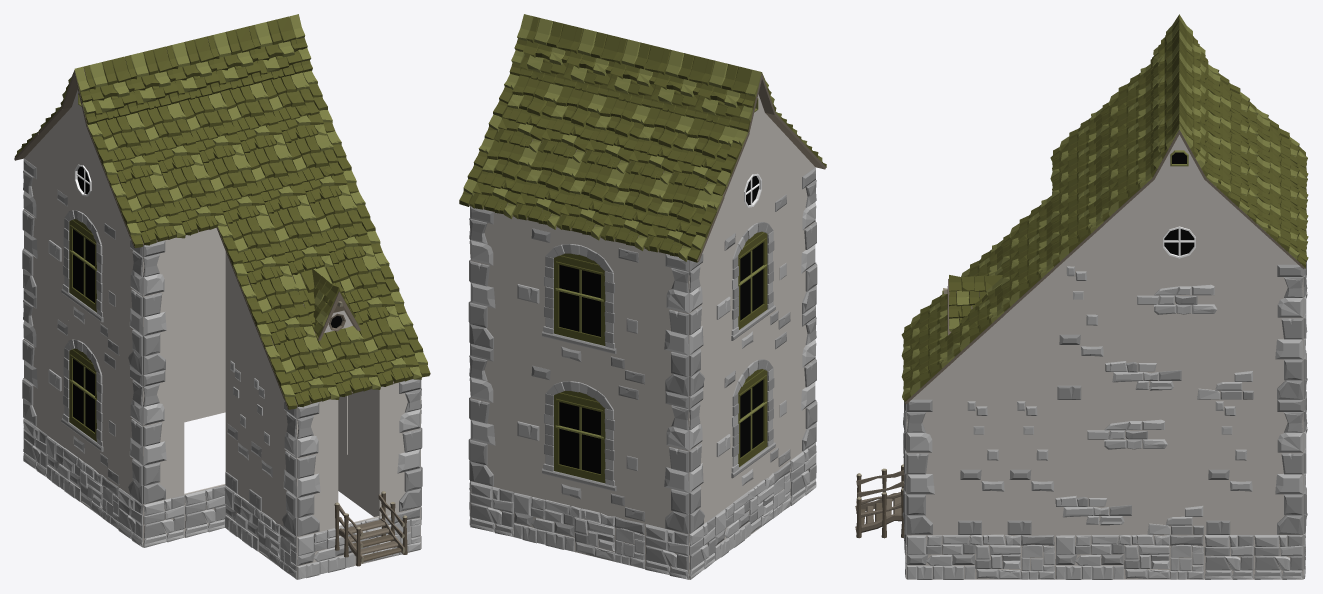
File: HOUSE_7_PARTS.fbx
3 renders of one model, left to right at view 1: azimuth 30°, elevation 25°; view 2: azimuth 150°, elevation 25°; view 3: azimuth 270°, elevation 25°, orthographic. The views are drawn at different scales.
Parts seen in each view (by area): view 1: WINDOW_05_12, WINDOW_05_13, WALL_05_2, WALL_07_3, WALL_05_3, WALL_05_4, WALL_05_9, FOUNDATION_03_2, WALL_05_7, WALL_05_6, WALL_06_4, WALL_07_4 (+61 smaller); view 2: WINDOW_05_11, WINDOW_05_10, WINDOW_05_12, WINDOW_05_13, WALL_05_9, WALL_07_8, WALL_05_8, WALL_07_9, FOUNDATION_03_5, WALL_07_6, WALL_07_4, WALL_05_6 (+33 smaller); view 3: WALL_03_2, WALL_03_3, WALL_06_5, WALL_05_5, FOUNDATION_03_6, FOUNDATION_03_7, WALL_06_8, WALL_07_5, WALL_06_6, WALL_06_10, WALL_07_7, ROOF_TRIANGLE_QUAD_WINDOW_3 (+62 smaller).
Part boxes in pixels (bbox=[...]): WINDOW_05_12: bbox=[48, 176, 119, 357]; WINDOW_05_13: bbox=[48, 306, 119, 486]; WALL_05_2: bbox=[143, 365, 184, 504]; WALL_07_3: bbox=[378, 379, 421, 516]; WALL_05_3: bbox=[143, 237, 184, 374]; WALL_05_4: bbox=[297, 399, 338, 536]; WALL_05_9: bbox=[190, 241, 225, 377]; FOUNDATION_03_2: bbox=[297, 507, 420, 579]; WALL_05_7: bbox=[22, 158, 47, 304]; WALL_05_6: bbox=[22, 288, 47, 434]; WALL_06_4: bbox=[249, 373, 273, 518]; WALL_07_4: bbox=[119, 358, 143, 504]; WINDOW_05_11: bbox=[514, 354, 645, 523]; WINDOW_05_10: bbox=[514, 217, 645, 385]; WINDOW_05_12: bbox=[714, 186, 790, 378]; WINDOW_05_13: bbox=[714, 323, 790, 515]; WALL_05_9: bbox=[469, 343, 514, 491]; WALL_07_8: bbox=[645, 386, 689, 533]; WALL_05_8: bbox=[469, 206, 514, 353]; WALL_07_9: bbox=[645, 249, 689, 396]; FOUNDATION_03_5: bbox=[514, 491, 645, 568]; WALL_07_6: bbox=[790, 167, 817, 322]; WALL_07_4: bbox=[790, 305, 817, 459]; WALL_05_6: bbox=[689, 379, 714, 533]; WALL_03_2: bbox=[1055, 399, 1204, 534]; WALL_03_3: bbox=[1105, 264, 1253, 399]; WALL_06_5: bbox=[1005, 399, 1055, 534]; WALL_05_5: bbox=[906, 399, 956, 534]; FOUNDATION_03_6: bbox=[1055, 534, 1204, 579]; FOUNDATION_03_7: bbox=[906, 534, 1055, 579]; WALL_06_8: bbox=[1204, 399, 1253, 534]; WALL_07_5: bbox=[1254, 399, 1303, 534]; WALL_06_6: bbox=[956, 399, 1005, 534]; WALL_06_10: bbox=[1055, 264, 1104, 399]; WALL_07_7: bbox=[1254, 264, 1303, 399]; ROOF_TRIANGLE_QUAD_WINDOW_3: bbox=[1154, 219, 1204, 264].
Size of the model in its own units: 547 by 1014 by 913.
